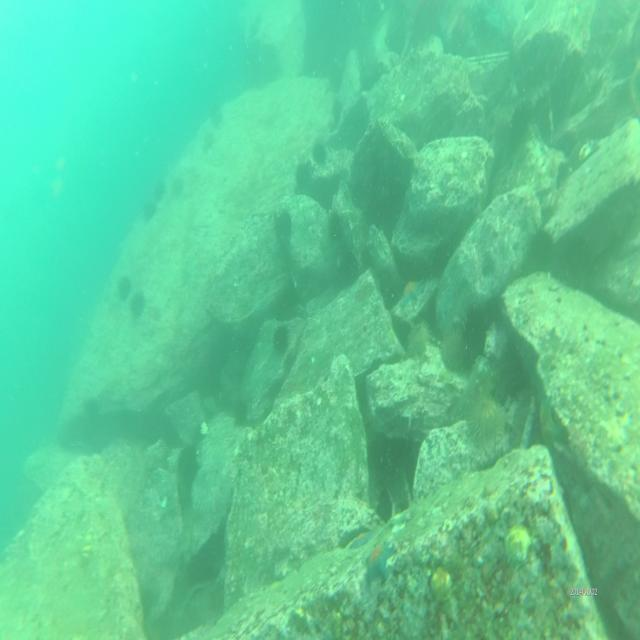echinus: (470, 386, 506, 446), (438, 322, 468, 372), (405, 318, 431, 360), (293, 156, 315, 192), (274, 205, 294, 243), (272, 321, 292, 355), (310, 138, 329, 167), (206, 102, 224, 130), (131, 290, 148, 319), (115, 272, 131, 297), (142, 196, 156, 223), (171, 174, 184, 203), (150, 180, 163, 203)
scallop: (504, 522, 535, 567)
starfish: (364, 544, 394, 588), (399, 274, 426, 307), (350, 528, 374, 550)
